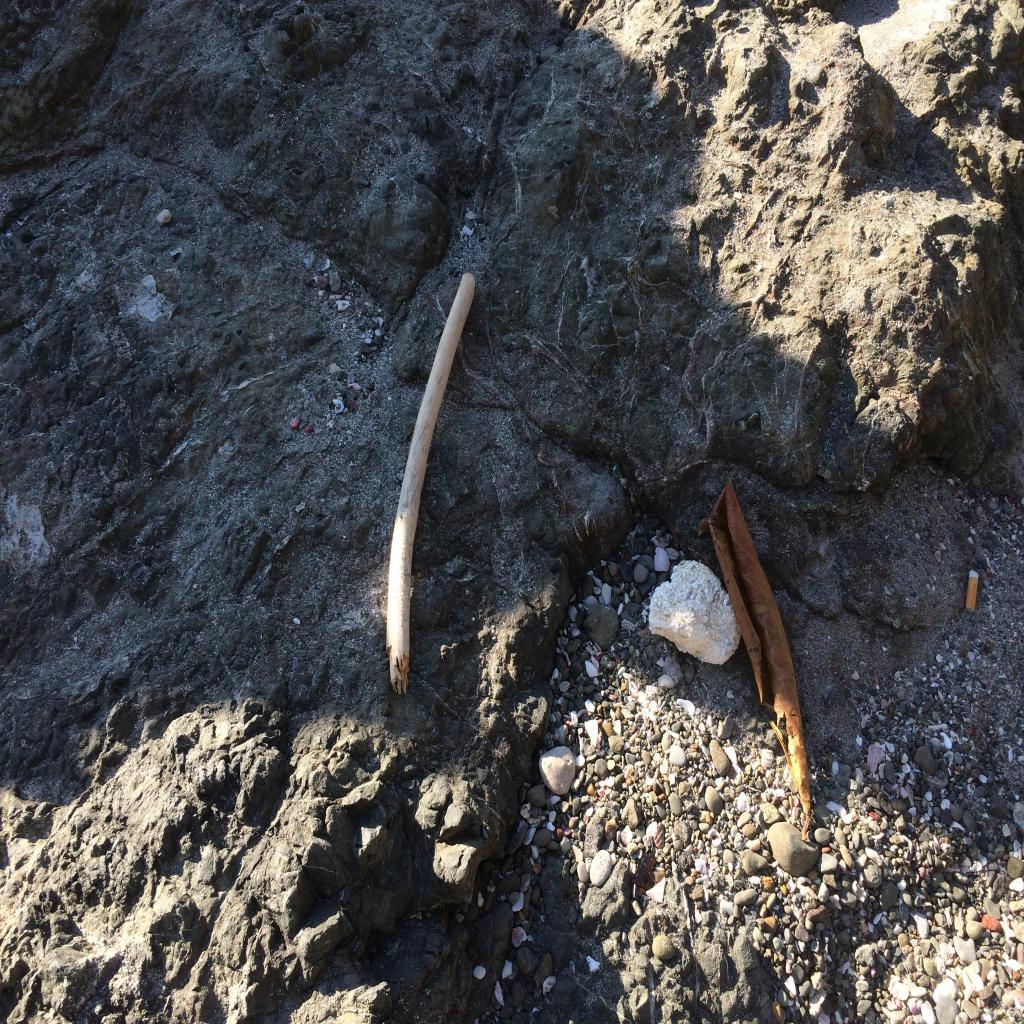Cigarette: (966, 570, 980, 612)
Styrofoam piece: (648, 560, 742, 664)
